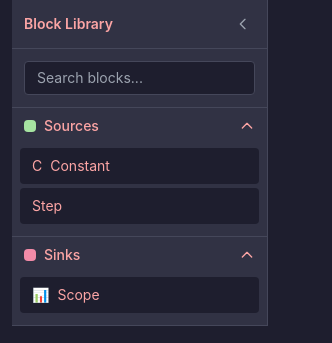
Test: Sidebar › search › filters blocks by name
In the field with placeholder "Search blocks...": point(140, 78) [24, 61, 255, 95], type "constant"
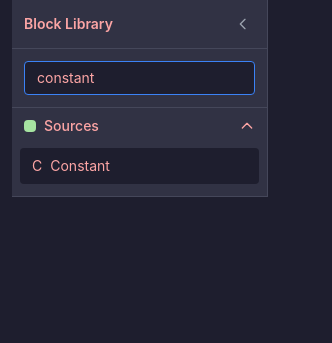
Check: the text "Constant" is shown, box [50, 156, 110, 176]
Check: the text "Step" is gone
